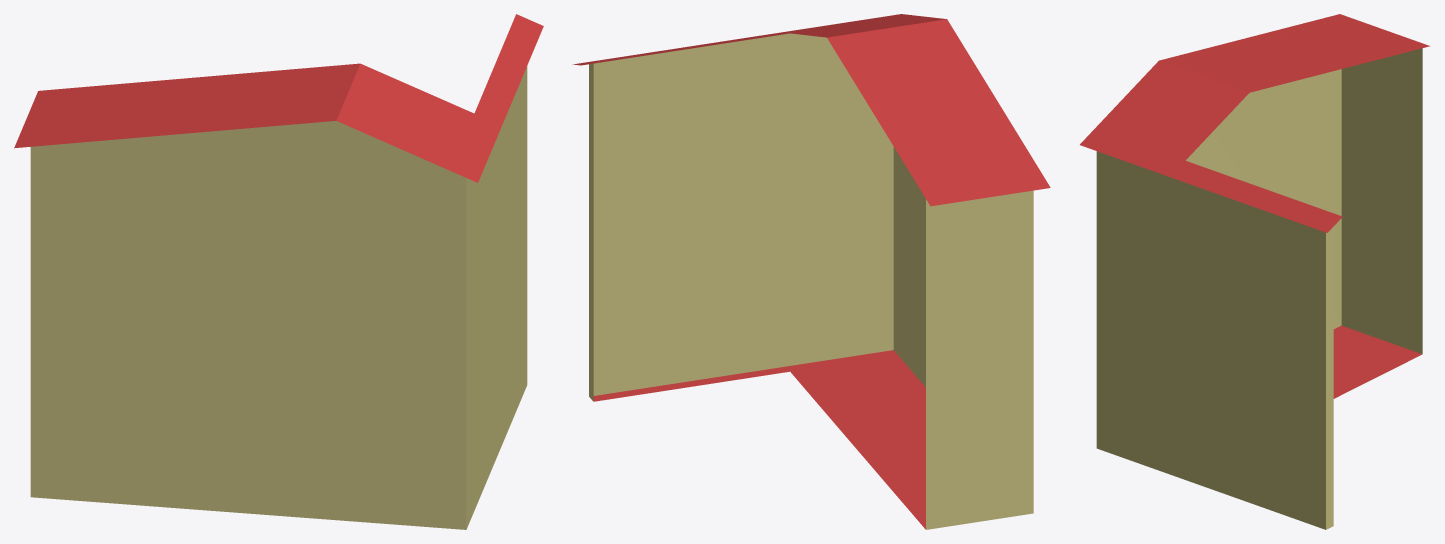
3 views of the same model, side by side, from view 1: azimuth 30°, elevation 25°; view 2: azimuth 150°, elevation 25°; view 3: azimuth 270°, elevation 25° (orthographic). The views are drawn at different scales.
Bounding box in the file's own units: 10.55 × 7.15 × 7.83.
